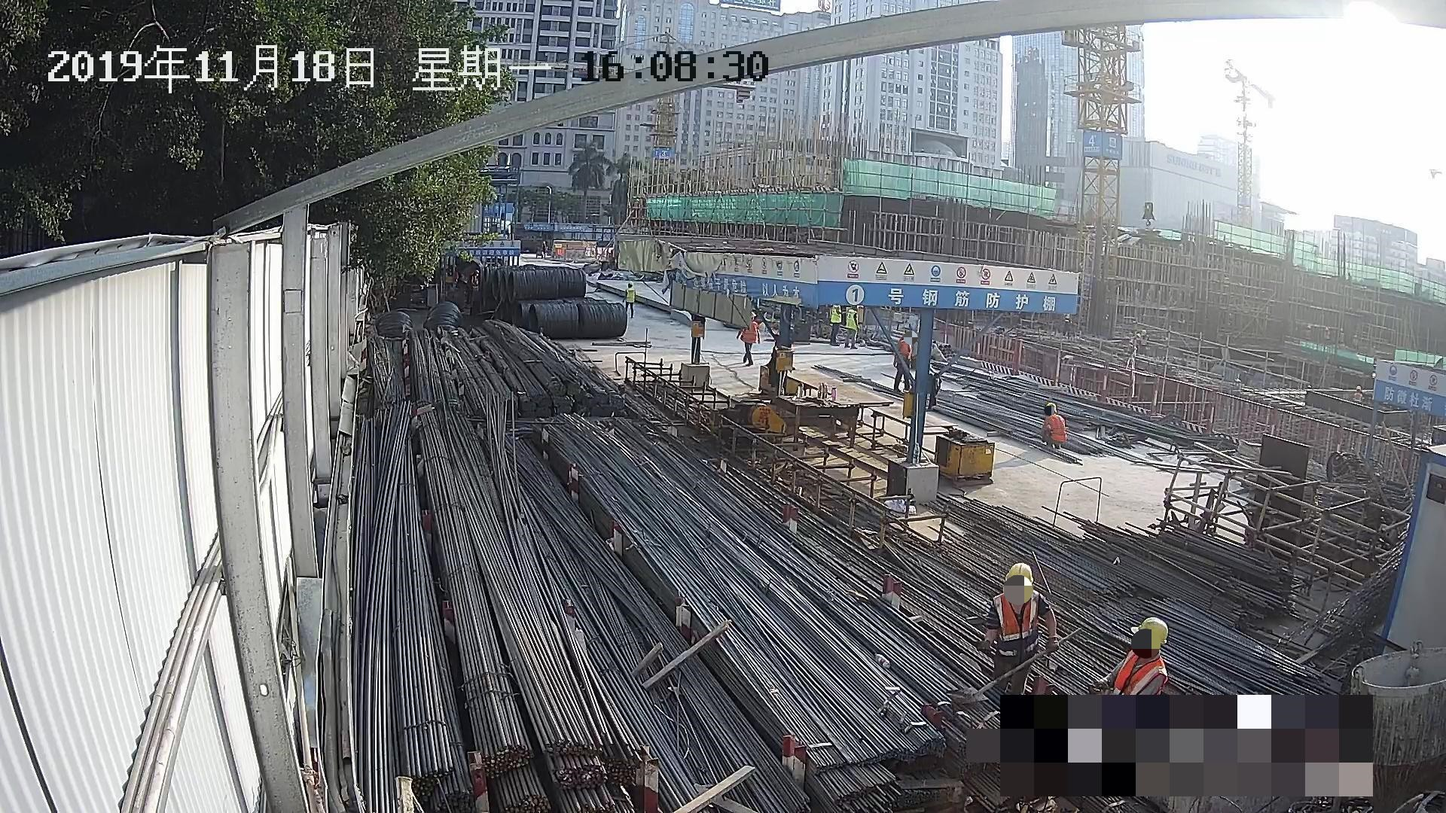hat: (1130, 614, 1171, 658), (1003, 559, 1036, 601)
person: (1084, 615, 1176, 789), (976, 562, 1060, 699)
